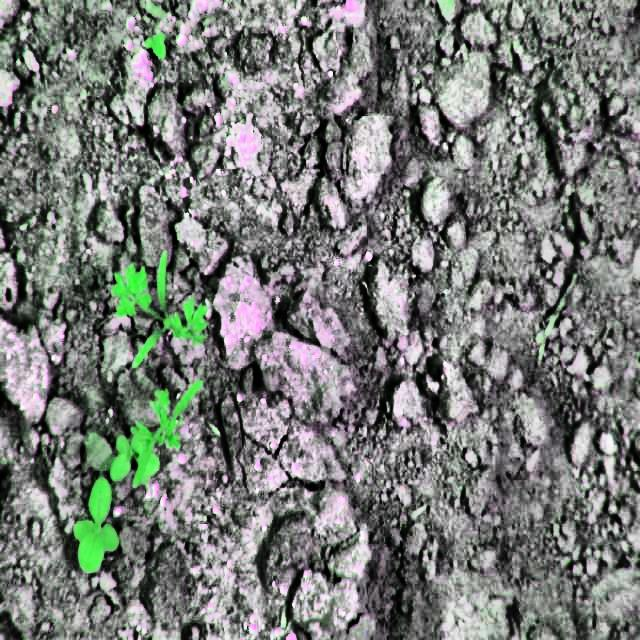Weeds: (70, 475, 118, 573), (146, 30, 167, 60)
undefined: (106, 249, 216, 368), (108, 381, 210, 488)
